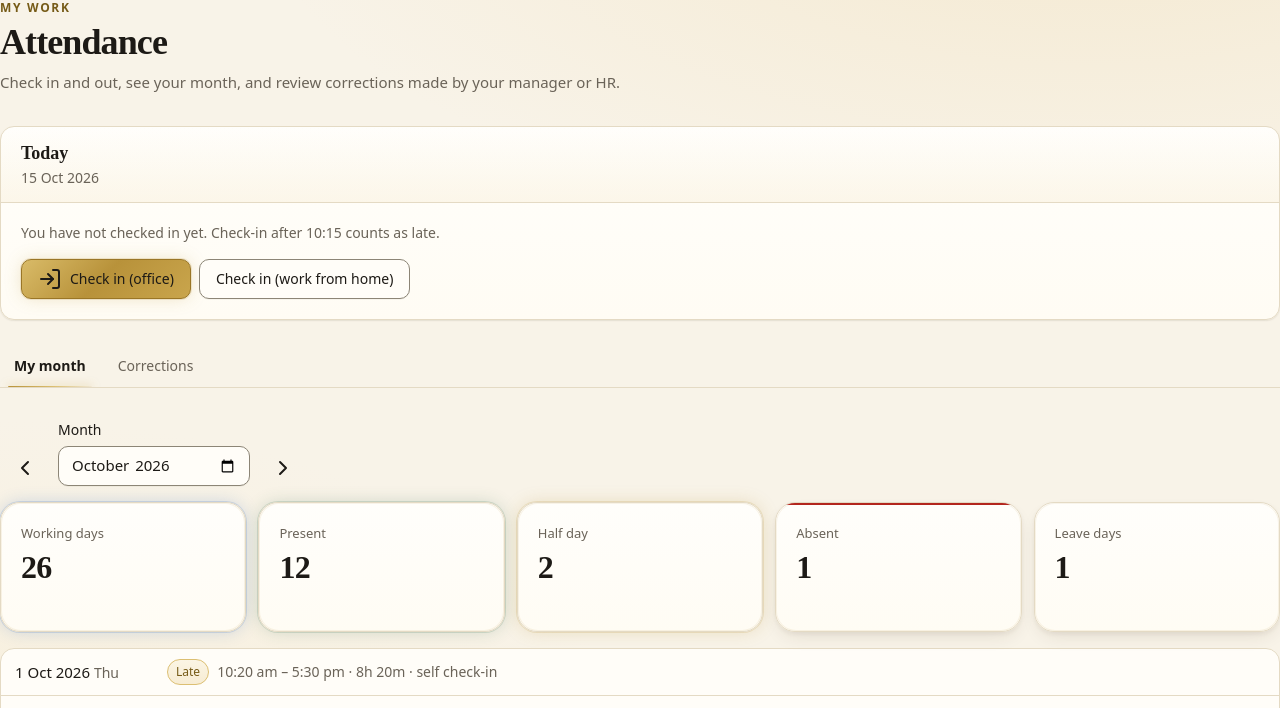
Test: AttendancePage › the corrections tab lists old and new value with who and why
This screenshot has width=1280, height=708.
Click the tab "Corrections": [156, 366] box x1=104 y1=344 x2=207 y2=388
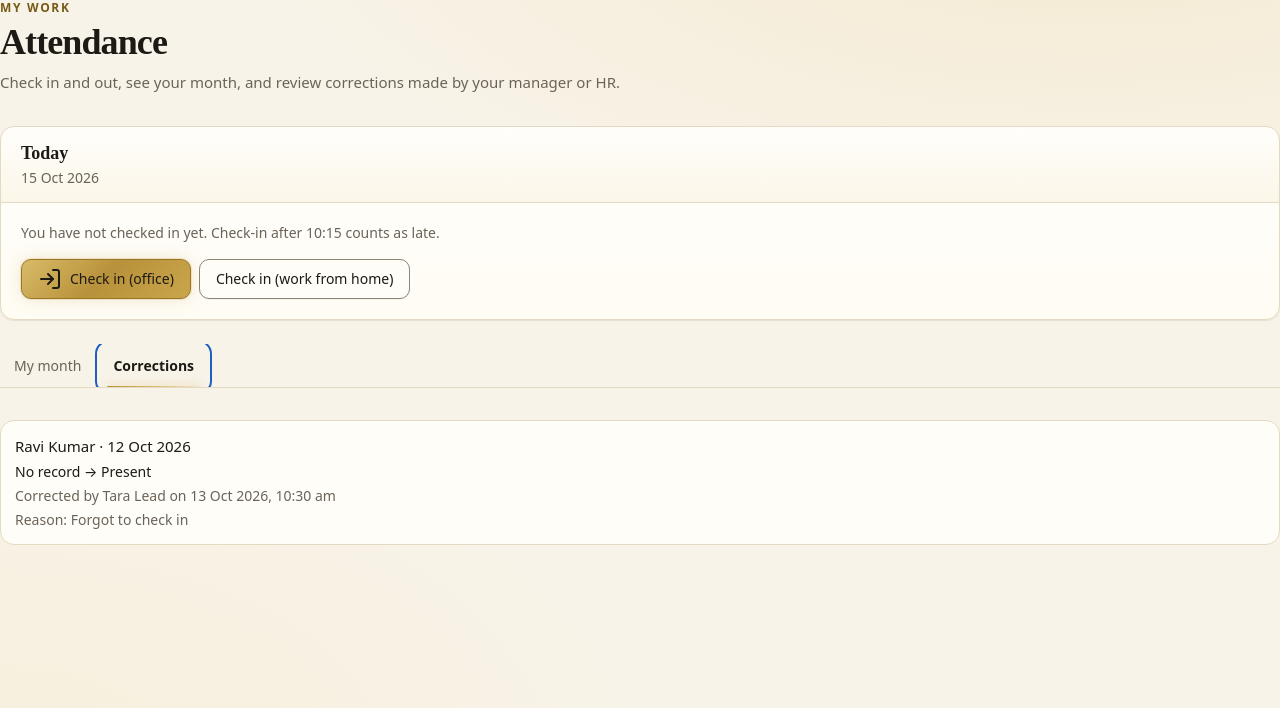
Result: the text "No record → Present" is shown at x1=15 y1=462 x2=151 y2=481
Result: the text "Reason: Forgot to check in" is shown at x1=15 y1=510 x2=188 y2=529
Result: the text "Corrected by Tara Lead on 13 Oct 2026, 10:30 am" is shown at x1=15 y1=486 x2=336 y2=505
